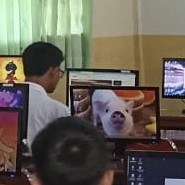monitor: (66, 69, 160, 143), (0, 82, 30, 179), (124, 150, 185, 185), (162, 58, 185, 100)
